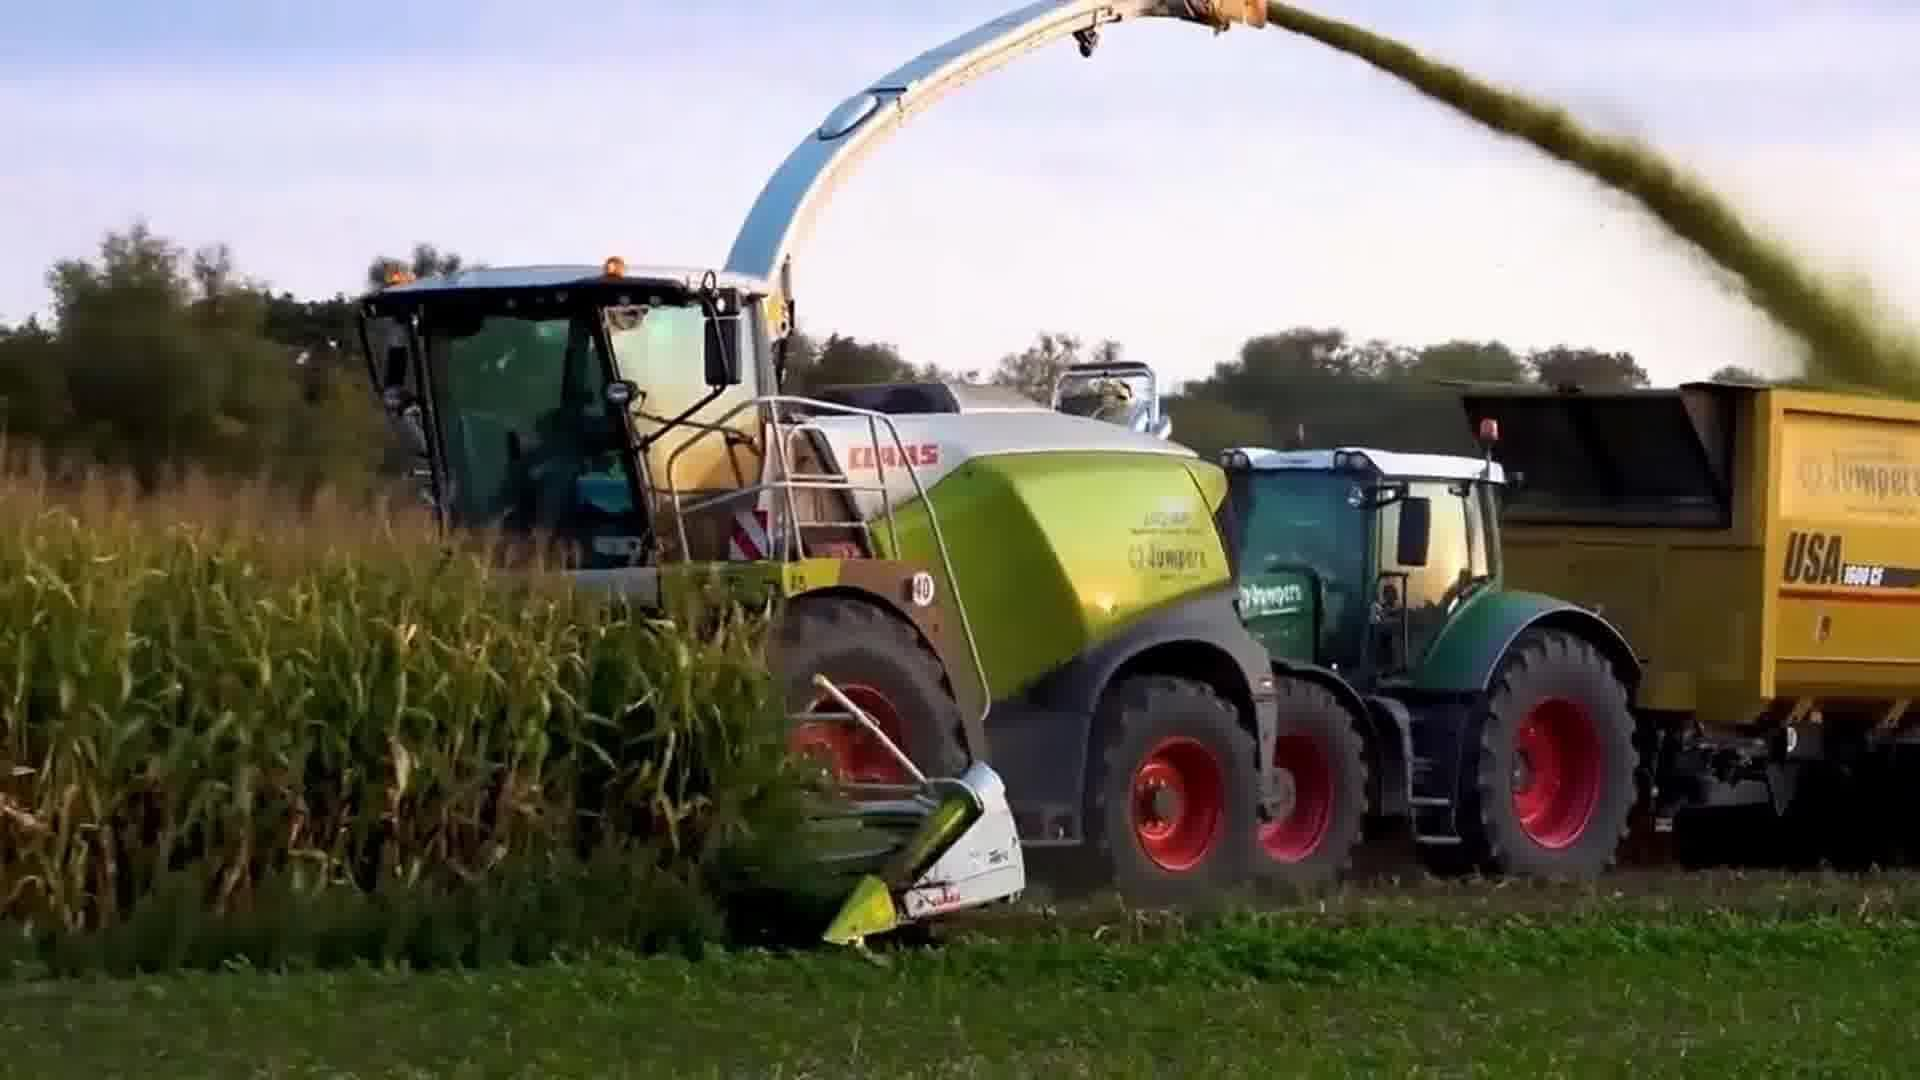combine harvester: (336, 0, 1659, 960)
tractor: (1218, 433, 1654, 911)
trailer: (1428, 355, 1920, 885)
